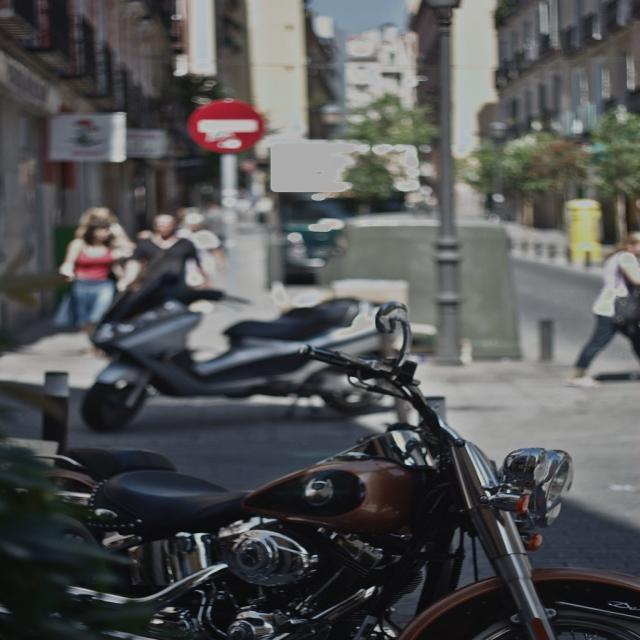scooter: (82, 273, 382, 431)
